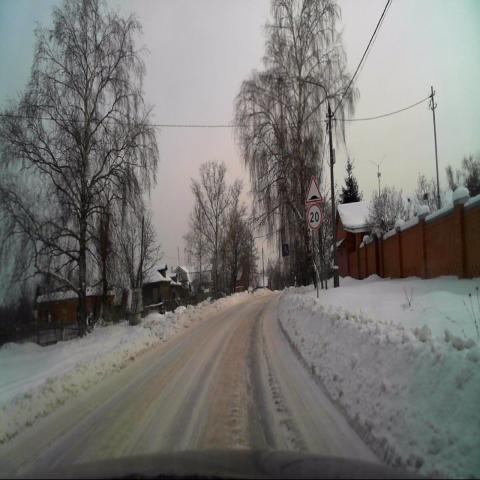1_17: (305, 175, 323, 203)
